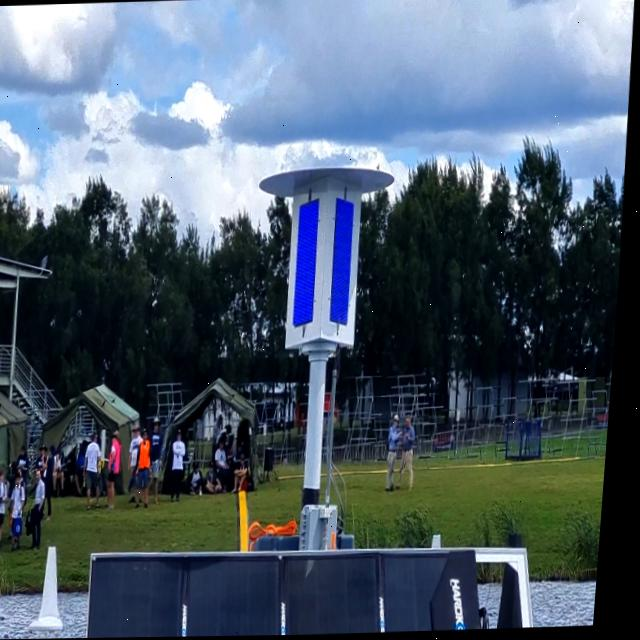led: (323, 188, 365, 336), (290, 190, 330, 332)
